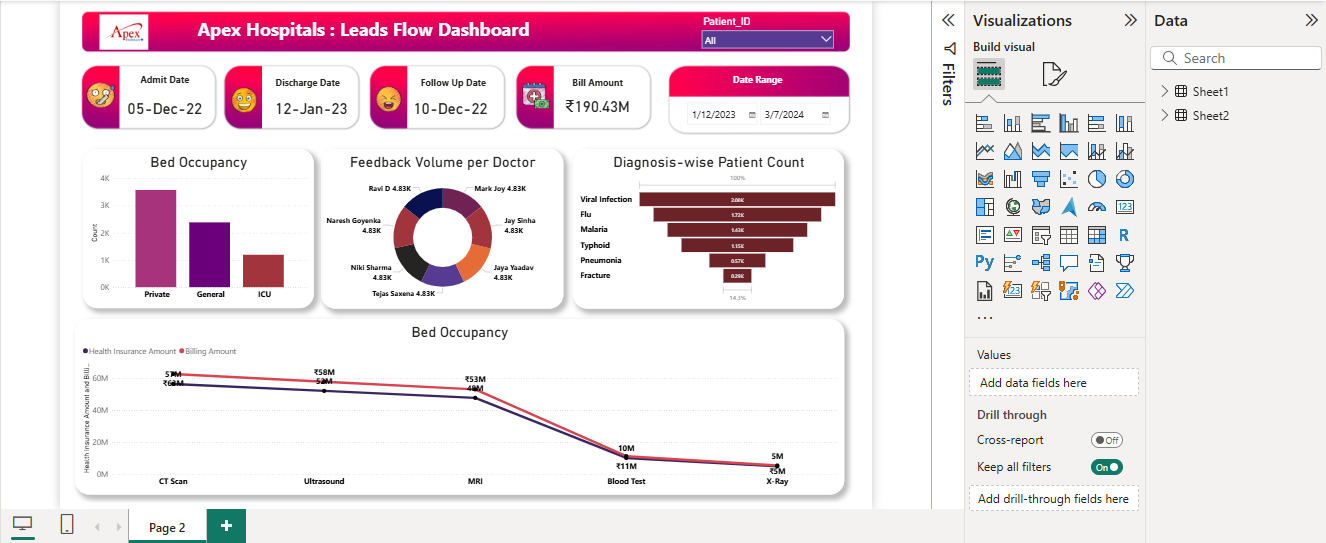

The page's visual inventory and layout, read from the dashboard file:
{"tool":"powerbi","page":{"name":"Page 2","canvas":[1680,1050],"ordinal":0},"visuals":[{"type":"textbox","box":[280,27.1,755.7,74.3],"z":0},{"type":"image","box":[2636.7,100,623.3,150],"z":1000},{"type":"slicer","fields":{"Values":["Sheet1.Patient_ID"]},"box":[2400,373.3,793.3,420],"z":2000},{"type":"card","fields":{"Values":["Min(Sheet1.Admit_Date)"]},"box":[437.6,198.8,162.9,42.8],"z":3000},{"type":"card","fields":{"Values":["Min(Sheet1.Discharge_Date)"]},"box":[129.8,198.8,172.6,42.8],"z":4000},{"type":"card","fields":{"Values":["Min(Sheet1.Followup Date)"]},"box":[724.3,198.6,167.1,42.9],"z":5000},{"type":"textbox","box":[152.9,145.7,127.1,57.1],"z":6000},{"type":"textbox","box":[437.1,151.4,151.4,37.1],"z":7000},{"type":"textbox","box":[732.9,151.4,158.6,37.1],"z":8000},{"type":"textbox","box":[1035.7,151.4,151.4,37.1],"z":9000},{"type":"card","fields":{"Values":["Sum(Sheet1.Billing Amount)"]},"box":[1031.4,194.3,158.6,42.9],"z":10000},{"type":"image","box":[50,157.1,68.6,74.3],"z":11000},{"type":"image","box":[348.6,172.9,62.9,62.9],"z":12000},{"type":"image","box":[640,171.4,77.1,62.9],"z":13000},{"type":"image","box":[951.4,158.6,65.7,71.4],"z":14000},{"type":"columnChart","title":"Bed Occupancy","fields":{"Category":["Sheet1.Bed_Occupancy"],"Y":["CountNonNull(Sheet1.Bed_Occupancy)"]},"box":[47.1,305.7,477.1,328.6],"z":15000},{"type":"donutChart","title":"Feedback Volume per Doctor","fields":{"Category":["Sheet1.Doctor"],"Y":["Sum(Sheet1.Feedback)"]},"box":[540.2,305.2,501,329.5],"z":16000},{"type":"funnel","title":"Diagnosis-wise Patient Count","fields":{"Category":["Sheet1.Diagnosis"],"Y":["CountNonNull(Sheet1.Diagnosis)"]},"box":[1060,305.7,560,330],"z":17000},{"type":"lineChart","title":"Bed Occupancy","fields":{"Y":["Sum(Sheet1.Health Insurance Amount)","Sum(Sheet1.Billing Amount)"],"Category":["Sheet1.Test"]},"box":[31.1,656.3,1589.5,363.3],"z":19000},{"type":"slicer","fields":{"Values":["Sheet1.Admit_Date"]},"box":[1284.3,201.2,360.6,68.9],"z":20000},{"type":"slicer","fields":{"Values":["Sheet1.Patient_ID"]},"box":[1317.1,24.3,292.9,82.9],"z":21000},{"type":"textbox","box":[1365.7,145.7,151.4,37.1],"z":22000},{"type":"image","box":[47.5,22.7,169.5,82.7],"z":22001}]}

Visuals, with their boxes on the page's 1680x1050 design canvas (x1, y1, x2, y2). These are canvas units, not pixel positions in the 1326x543 screenshot, which may show the page scaled, cropped or inside an application window:
textbox: {"x1": 280, "y1": 27, "x2": 1036, "y2": 101}
image: {"x1": 2637, "y1": 100, "x2": 3260, "y2": 250}
slicer - Sheet1.Patient_ID: {"x1": 2400, "y1": 373, "x2": 3193, "y2": 793}
card - Min(Sheet1.Admit_Date): {"x1": 438, "y1": 199, "x2": 600, "y2": 242}
card - Min(Sheet1.Discharge_Date): {"x1": 130, "y1": 199, "x2": 302, "y2": 242}
card - Min(Sheet1.Followup Date): {"x1": 724, "y1": 199, "x2": 891, "y2": 242}
textbox: {"x1": 153, "y1": 146, "x2": 280, "y2": 203}
textbox: {"x1": 437, "y1": 151, "x2": 588, "y2": 188}
textbox: {"x1": 733, "y1": 151, "x2": 892, "y2": 188}
textbox: {"x1": 1036, "y1": 151, "x2": 1187, "y2": 188}
card - Sum(Sheet1.Billing Amount): {"x1": 1031, "y1": 194, "x2": 1190, "y2": 237}
image: {"x1": 50, "y1": 157, "x2": 119, "y2": 231}
image: {"x1": 349, "y1": 173, "x2": 412, "y2": 236}
image: {"x1": 640, "y1": 171, "x2": 717, "y2": 234}
image: {"x1": 951, "y1": 159, "x2": 1017, "y2": 230}
"Bed Occupancy" columnChart: {"x1": 47, "y1": 306, "x2": 524, "y2": 634}
"Feedback Volume per Doctor" donutChart: {"x1": 540, "y1": 305, "x2": 1041, "y2": 635}
"Diagnosis-wise Patient Count" funnel: {"x1": 1060, "y1": 306, "x2": 1620, "y2": 636}
"Bed Occupancy" lineChart: {"x1": 31, "y1": 656, "x2": 1621, "y2": 1020}
slicer - Sheet1.Admit_Date: {"x1": 1284, "y1": 201, "x2": 1645, "y2": 270}
slicer - Sheet1.Patient_ID: {"x1": 1317, "y1": 24, "x2": 1610, "y2": 107}
textbox: {"x1": 1366, "y1": 146, "x2": 1517, "y2": 183}
image: {"x1": 48, "y1": 23, "x2": 217, "y2": 105}
